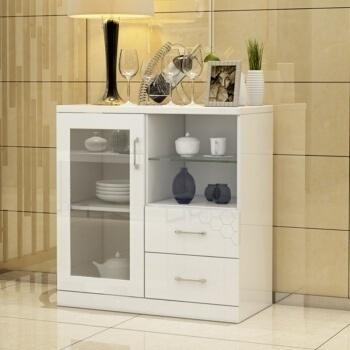cabinet_door: (58, 113, 145, 294), (147, 257, 239, 303), (148, 211, 240, 253)
handle: (174, 273, 209, 289), (174, 226, 209, 240), (131, 135, 143, 172)
